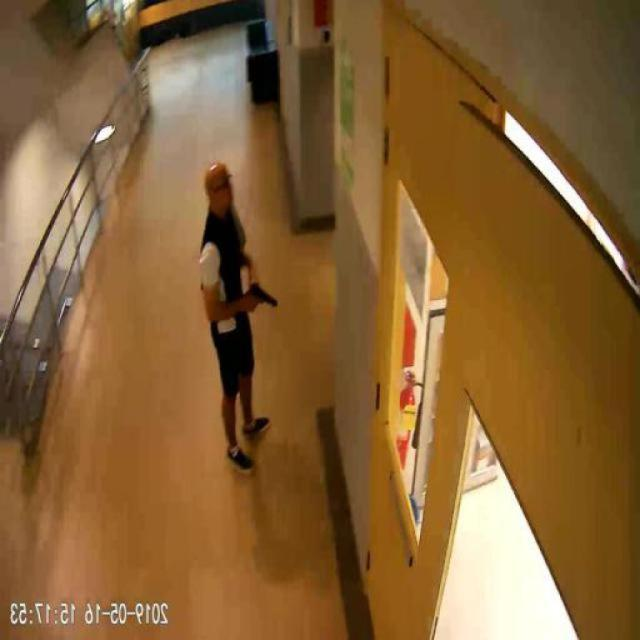pistol: (250, 280, 279, 310)
